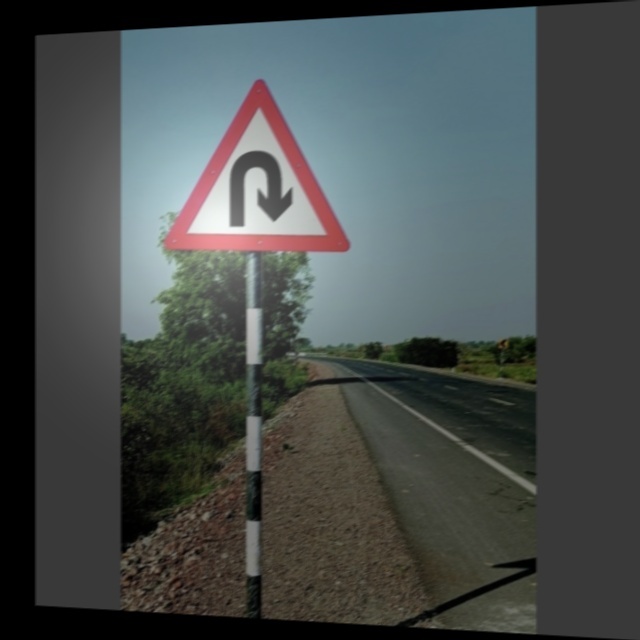Right_Hair_Pin_Bend: (176, 73, 347, 253)
